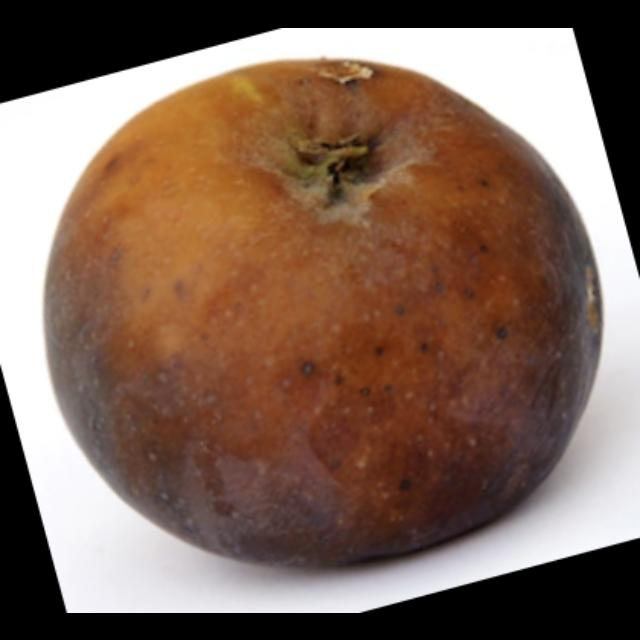Apel Tidak Segar: (35, 48, 610, 570)
